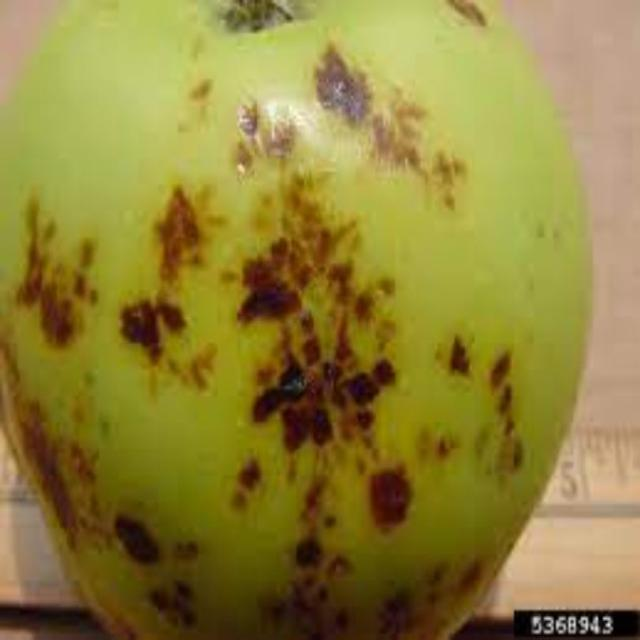Rotten Apple: (14, 0, 570, 625)
